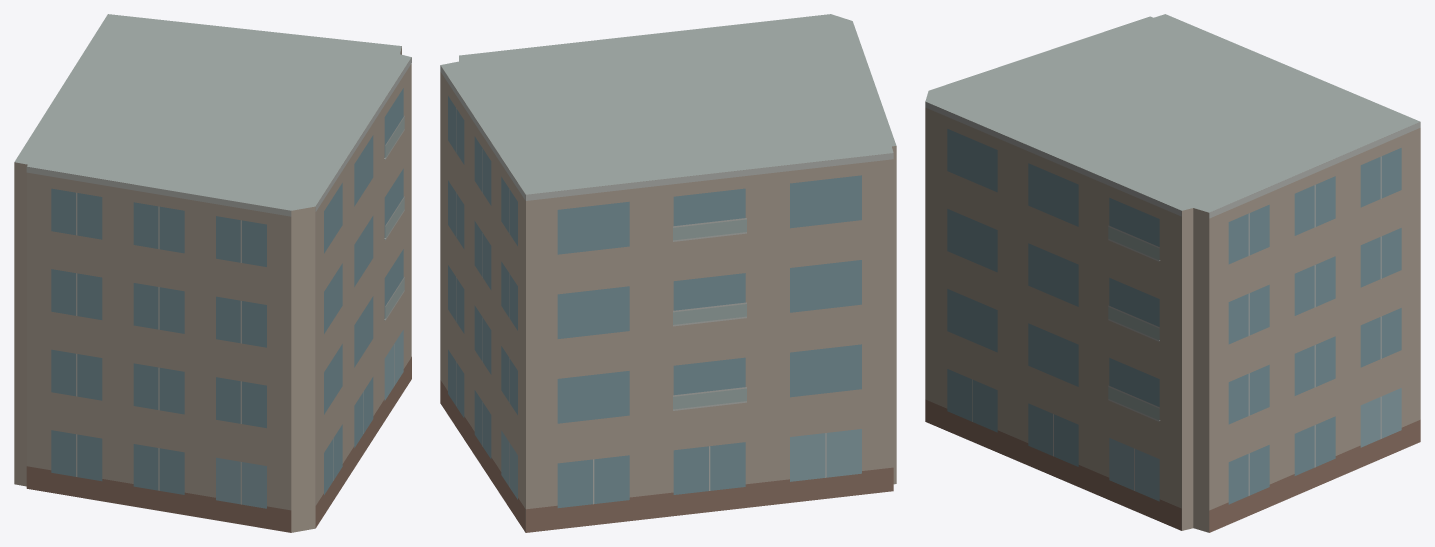
The model's file is survey-upis-32927131.glb.
3 views of the same model, side by side, from view 1: azimuth 30°, elevation 25°; view 2: azimuth 150°, elevation 25°; view 3: azimuth 270°, elevation 25° (orthographic). The views are drawn at different scales.
Parts seen in each view (by area): view 1: survey-upis-32927131.tmp; view 2: survey-upis-32927131.tmp; view 3: survey-upis-32927131.tmp.
Part boxes in pixels (<box>): survey-upis-32927131.tmp: <box>14,14,411,532</box>; survey-upis-32927131.tmp: <box>440,14,896,532</box>; survey-upis-32927131.tmp: <box>925,14,1420,532</box>.
Size of the model in its own units: 17.58 by 13.2 by 18.51.
